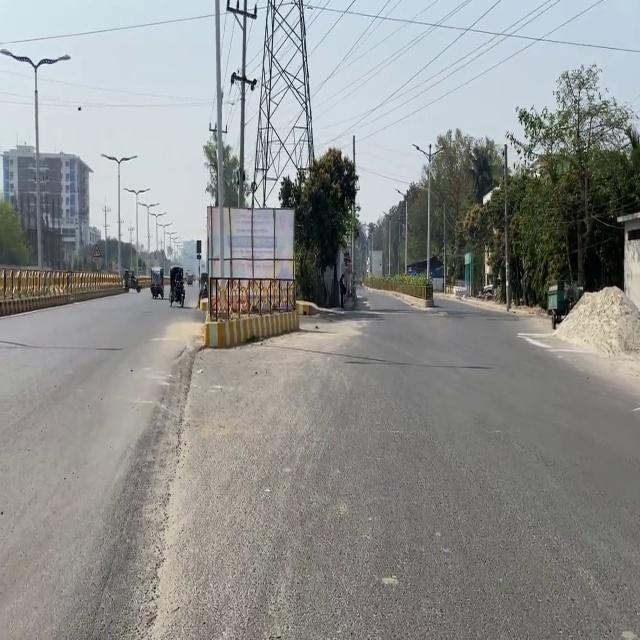Construction-barrier: (86, 409, 192, 640), (363, 283, 549, 319), (203, 304, 301, 347), (363, 284, 433, 309), (295, 299, 340, 316)
Fallen-tree: (168, 275, 186, 307), (123, 269, 140, 293)
Garbage: (202, 204, 300, 347)
